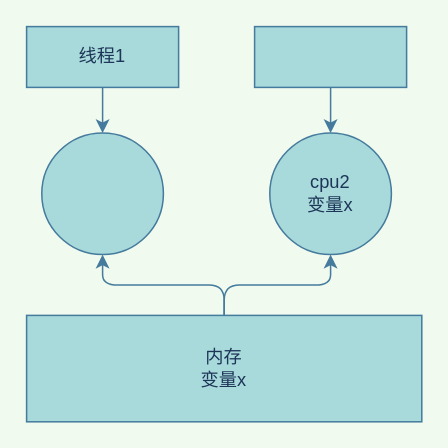
This 448x448 diagram has some shape labels left out. The centre of each missing label's shape, as x and y in pixels:
"cpu1 变量x" belongs at (x=101, y=193).
"线程2" belongs at (x=330, y=56).
